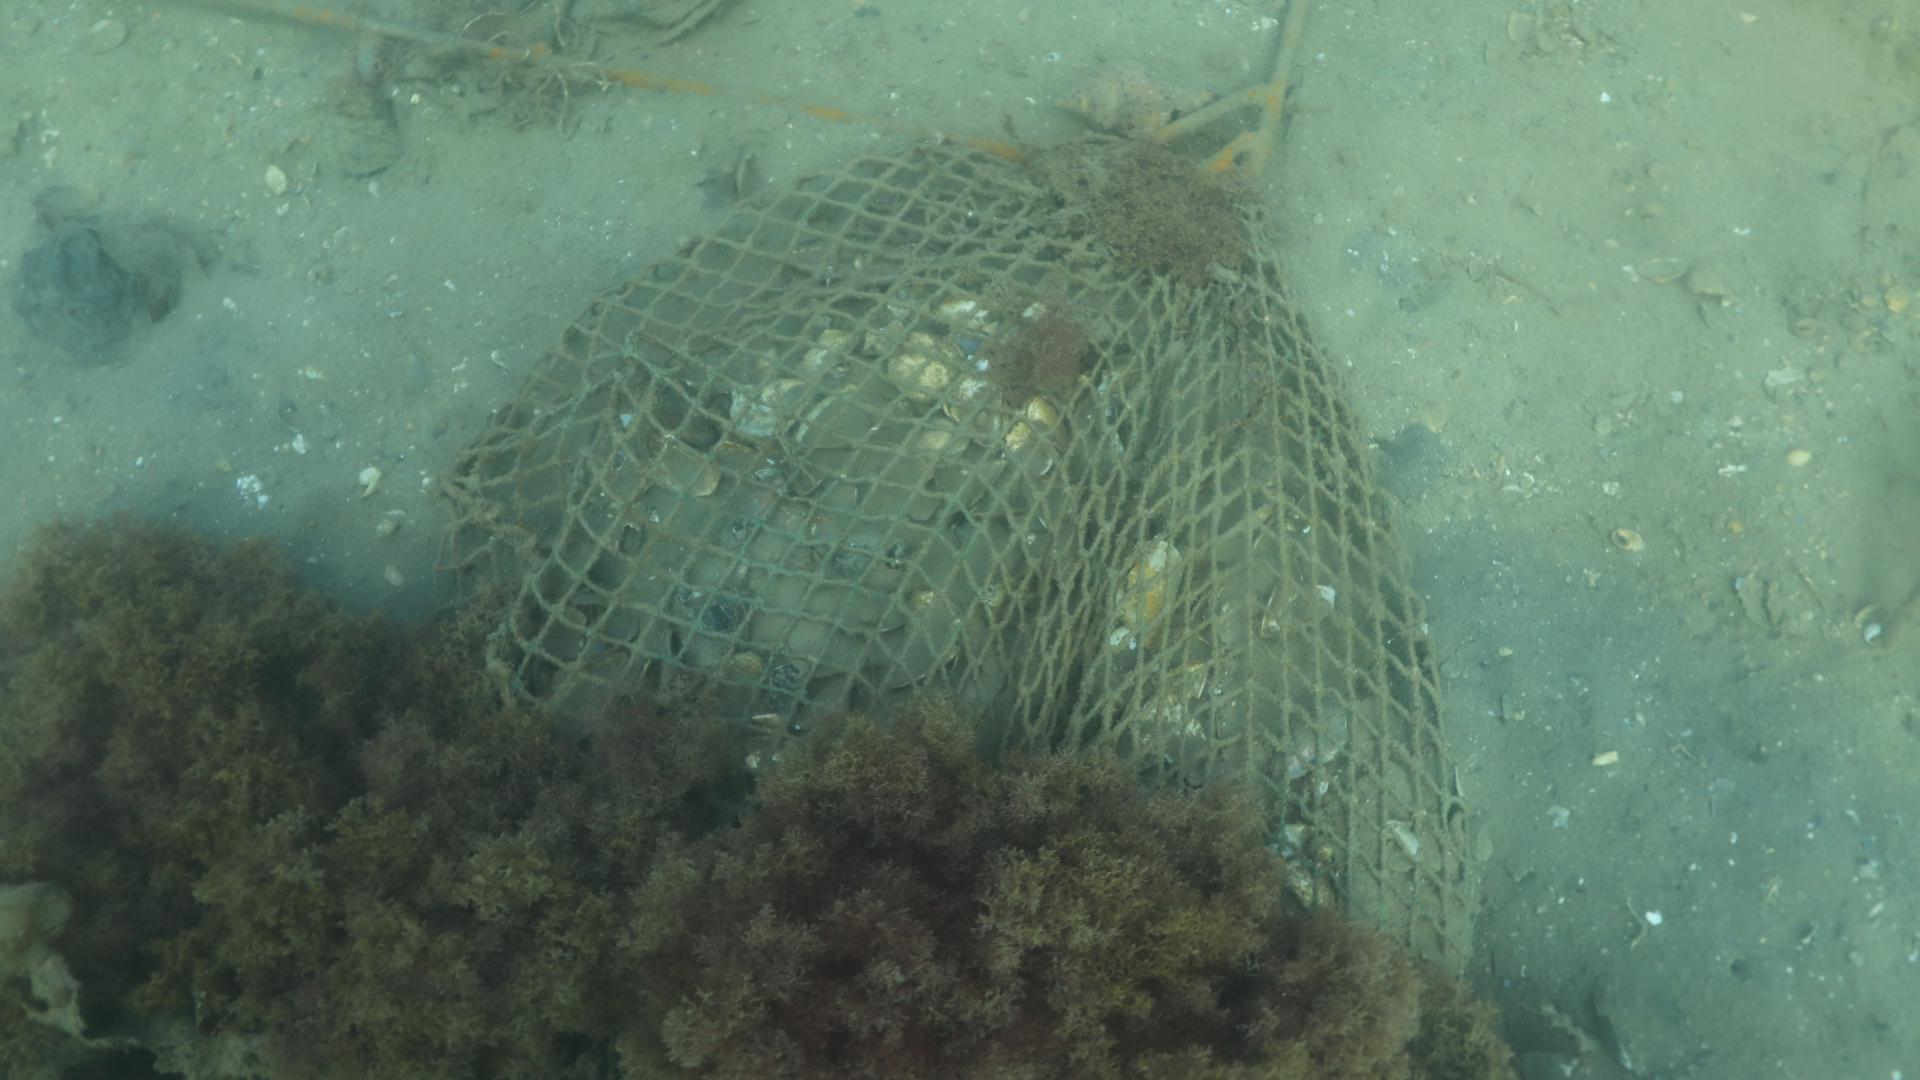fish net: (431, 144, 1476, 978)
